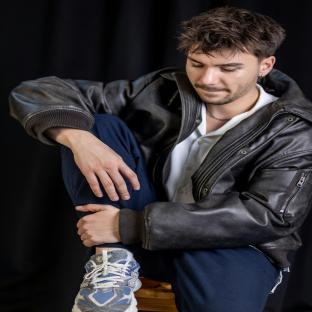Human: (10, 7, 312, 312)
